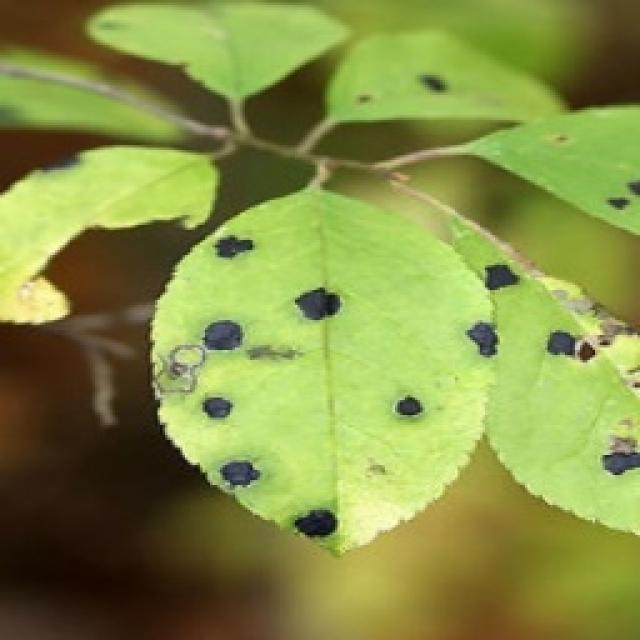Tar_Spot: (145, 180, 497, 555)
